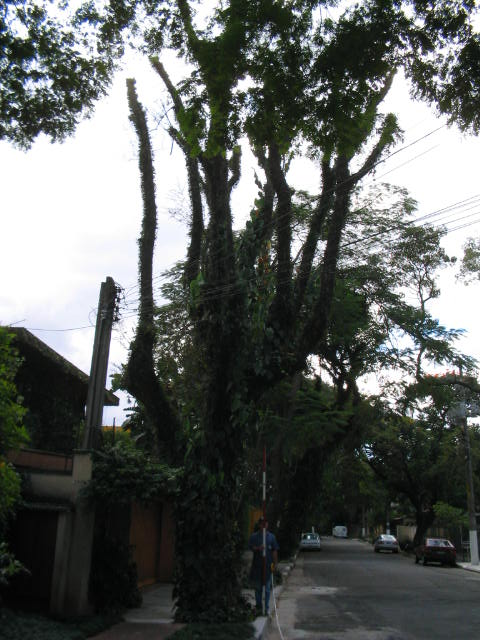stem: (154, 481, 254, 624)
stick: (259, 444, 271, 618)
tree: (124, 6, 403, 626)
